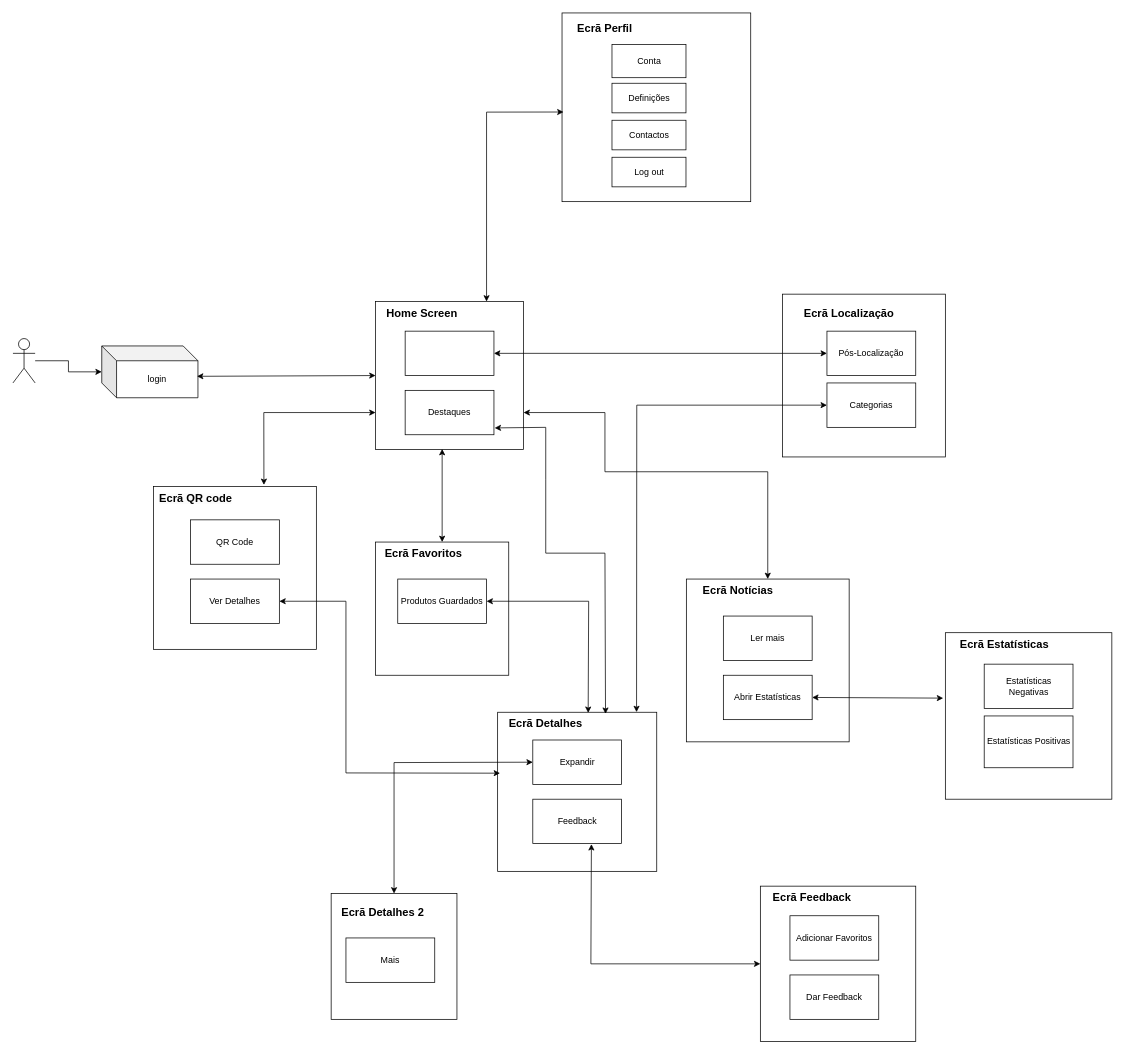
This 1125x1055 diagram has some shape labels left out. Here are the shapes that lost their labels. From the top down, the box of each, then its label:
(12, 338, 35, 383): User
(404, 330, 494, 376): Pré-Localização
